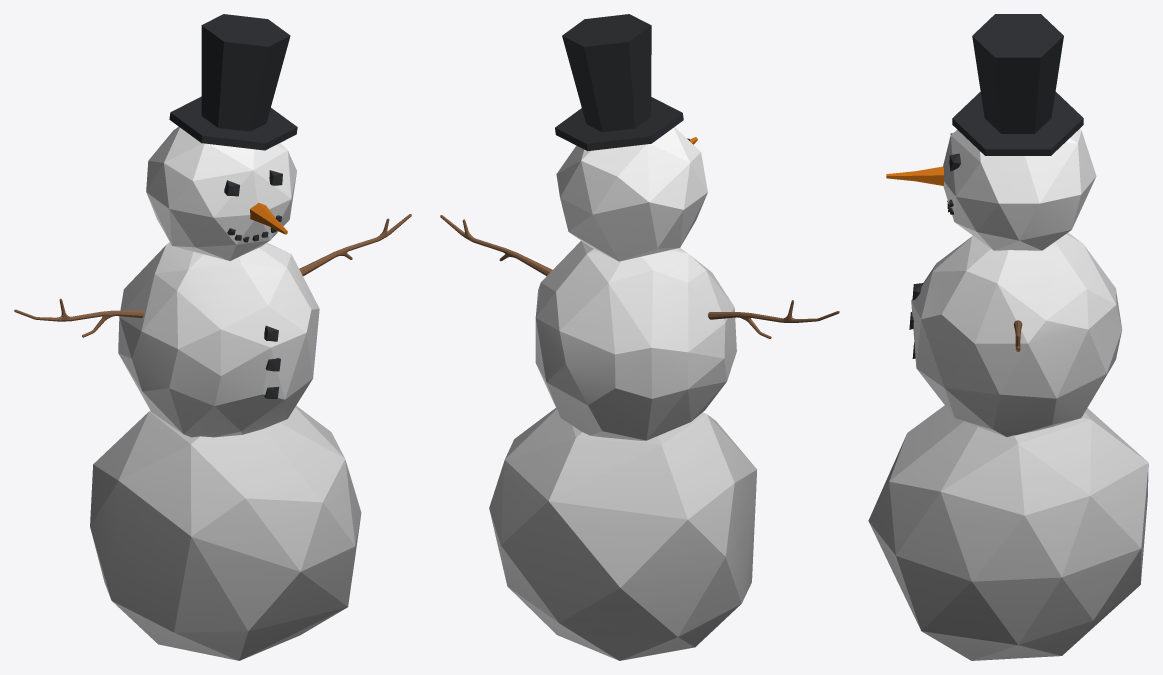
The model's file is Snowman_01.glb.
3 views of the same model, side by side, from view 1: azimuth 30°, elevation 25°; view 2: azimuth 150°, elevation 25°; view 3: azimuth 270°, elevation 25° (orthographic). The views are drawn at different scales.
Visible parts, largest first — view 1: Snowman_01; view 2: Snowman_01; view 3: Snowman_01.
Part boxes in pixels (box(x1,y1,x2,y2)): Snowman_01: box(14, 14, 411, 660); Snowman_01: box(440, 14, 839, 660); Snowman_01: box(868, 14, 1148, 660).
Size of the model in its own units: 1.18 by 1.71 by 0.7055.
1 material, 1 textured.
